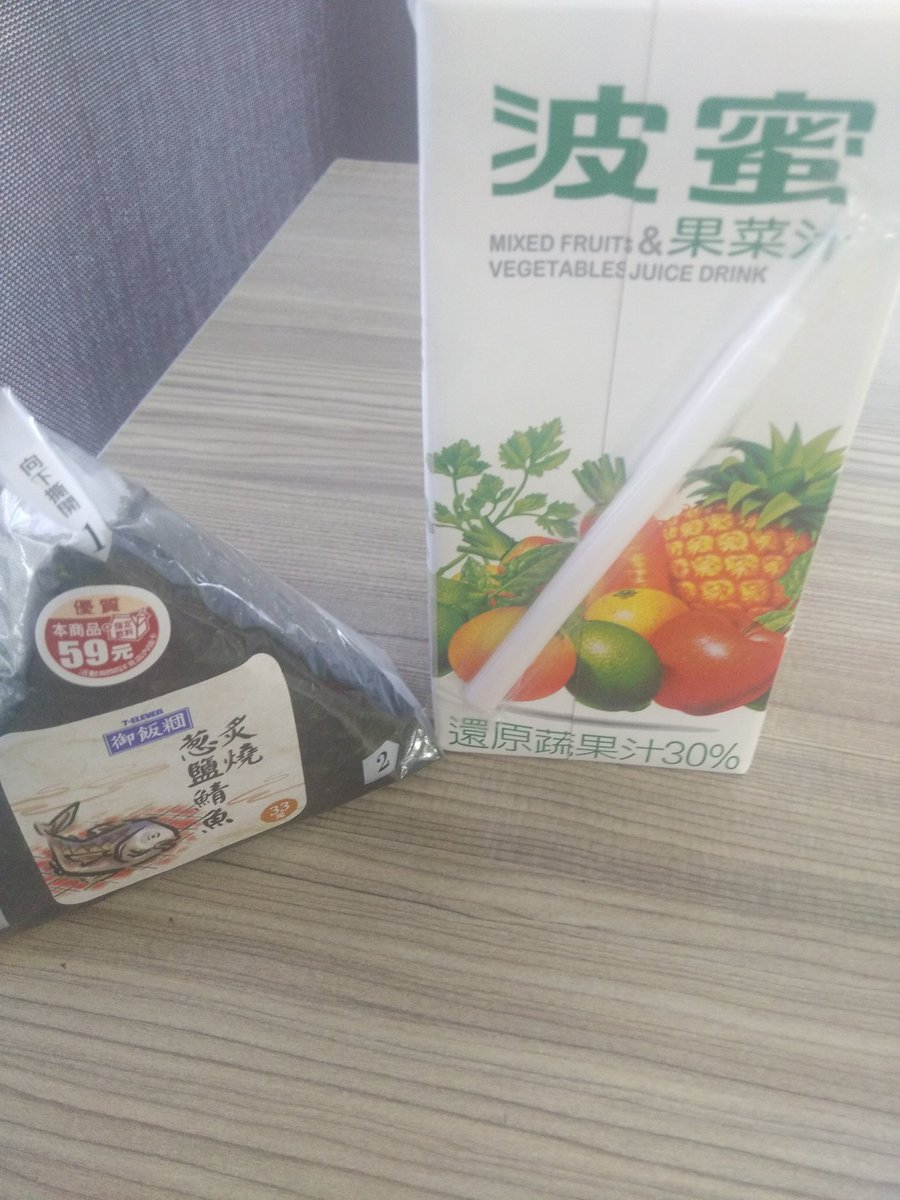vegetables juice: (380, 1, 897, 783)
